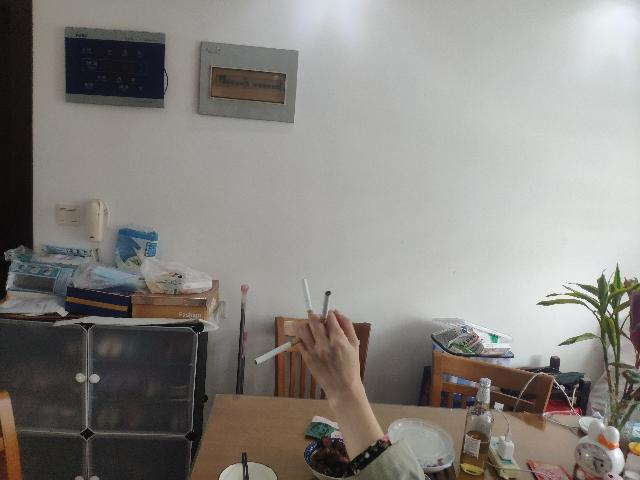Cigarette: (254, 335, 306, 365), (300, 279, 316, 325), (318, 291, 332, 329)
